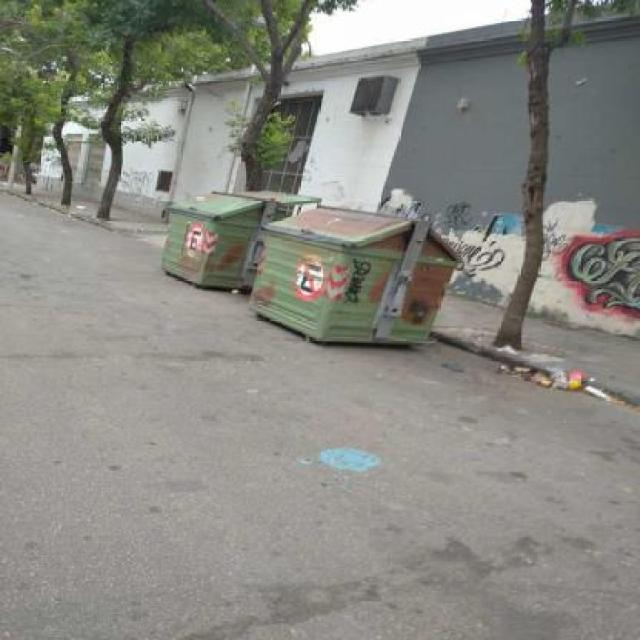garbage: (499, 346, 634, 404)
